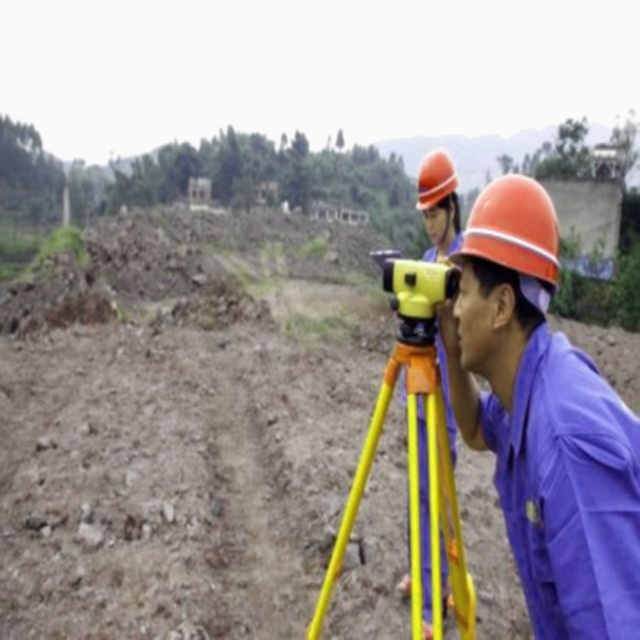Con_Casco: (413, 154, 461, 240)
